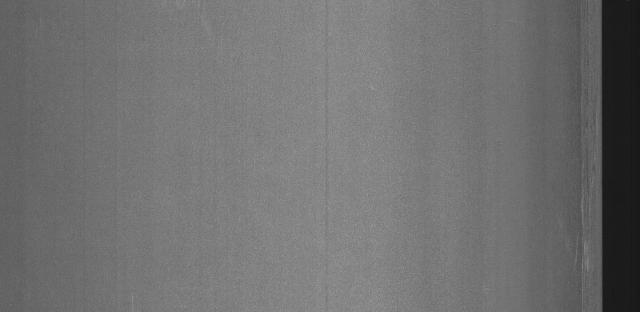silk_spot: (550, 200, 601, 277)
